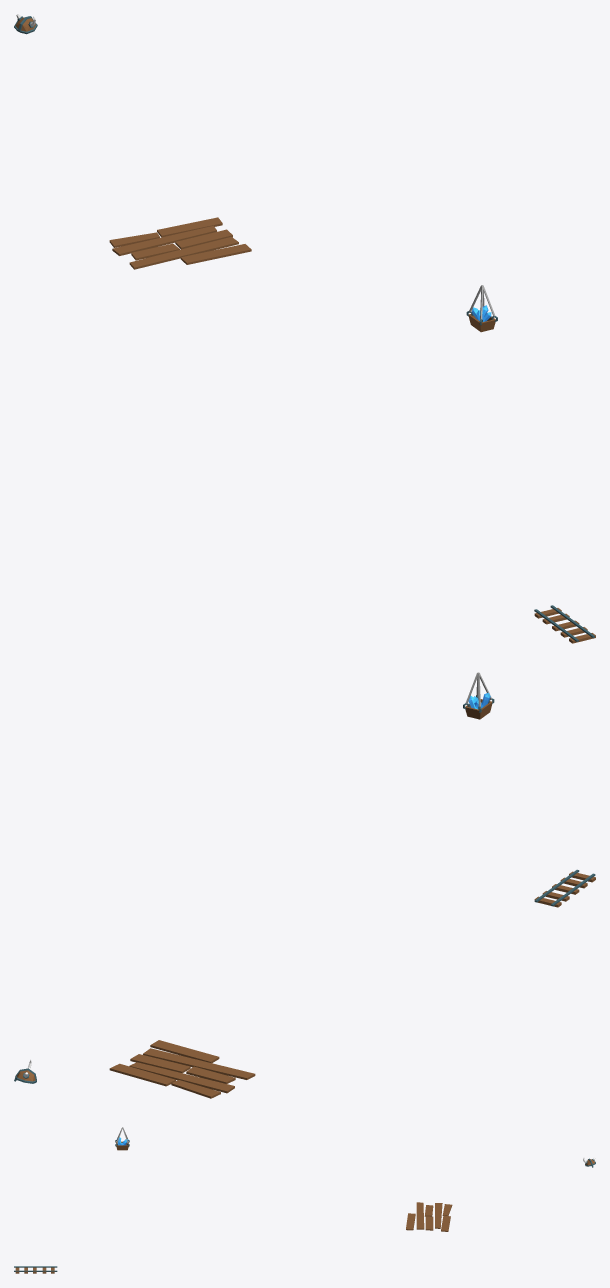
3 views of the same model, one above another, from view 1: azimuth 30°, elevation 25°; view 2: azimuth 150°, elevation 25°; view 3: azimuth 270°, elevation 25° (orthographic). The views are drawn at different scales.
Parts seen in each view (by area): view 1: Plane015_brown_0; view 2: Plane015_brown_0, Box15383_brown_0; view 3: Plane015_brown_0.
Boxes of the visible parts, x1,y1,x2,y2 form: Plane015_brown_0: [109, 217, 251, 269]; Plane015_brown_0: [109, 1040, 255, 1098]; Box15383_brown_0: [534, 871, 595, 907]; Plane015_brown_0: [406, 1202, 452, 1231].
Bounding box in the file's own units: 472 × 1099 × 4029.
